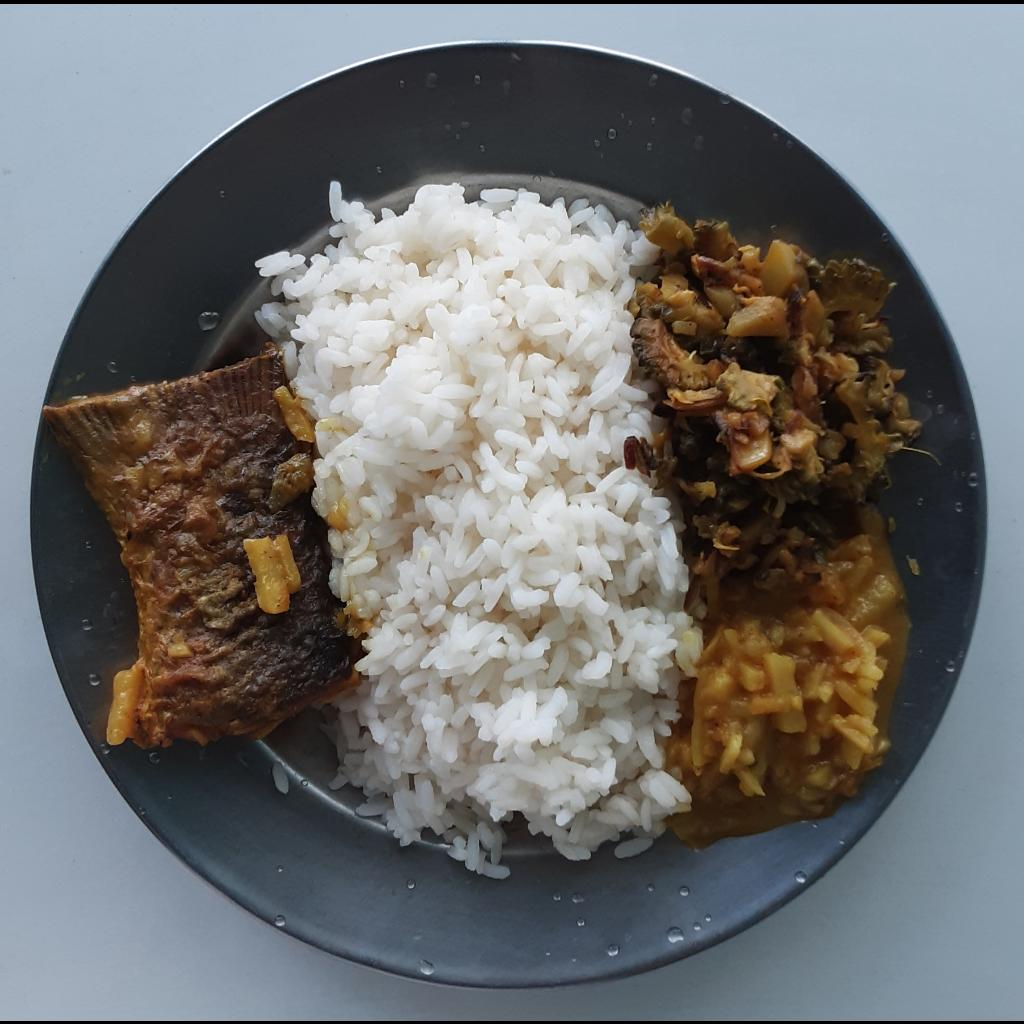fish: (42, 349, 364, 746)
korola-vaji: (629, 203, 928, 578)
potato: (673, 532, 907, 848)
rice: (249, 172, 702, 877)
